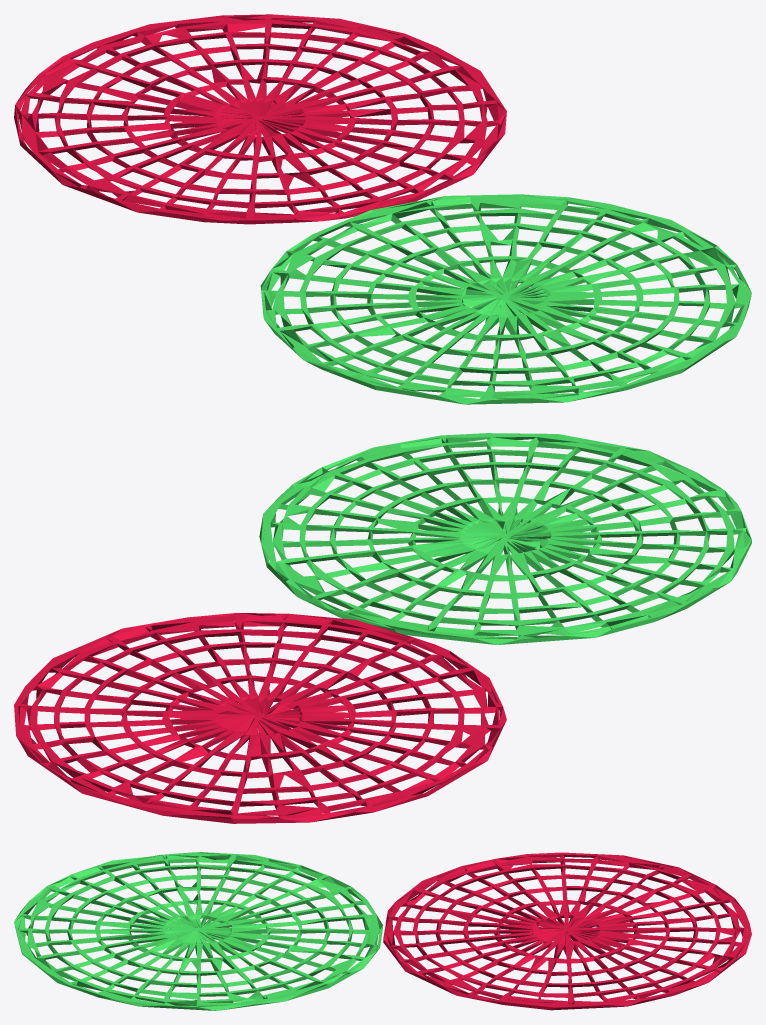
Rendered from SocialDistance.gltf.
3 renders of one model, top to bottom at view 1: azimuth 30°, elevation 25°; view 2: azimuth 150°, elevation 25°; view 3: azimuth 270°, elevation 25°, orthographic. The views are drawn at different scales.
Visible parts, largest first — view 1: Sphere.001, Sphere; view 2: Sphere.001, Sphere; view 3: Sphere, Sphere.001.
Part boxes in pixels (left/top/right/bottom): Sphere.001: left=14, top=14, right=506, bottom=224; Sphere: left=260, top=194, right=751, bottom=404; Sphere.001: left=14, top=613, right=506, bottom=823; Sphere: left=259, top=433, right=751, bottom=644; Sphere: left=14, top=852, right=383, bottom=1010; Sphere.001: left=383, top=852, right=751, bottom=1010.
Size of what is drawn, in the model's own units: 2.02 by 0.0201 by 4.03.
